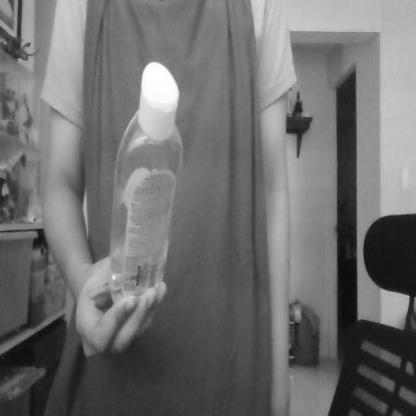Plastic Bottle: (102, 56, 181, 326)
